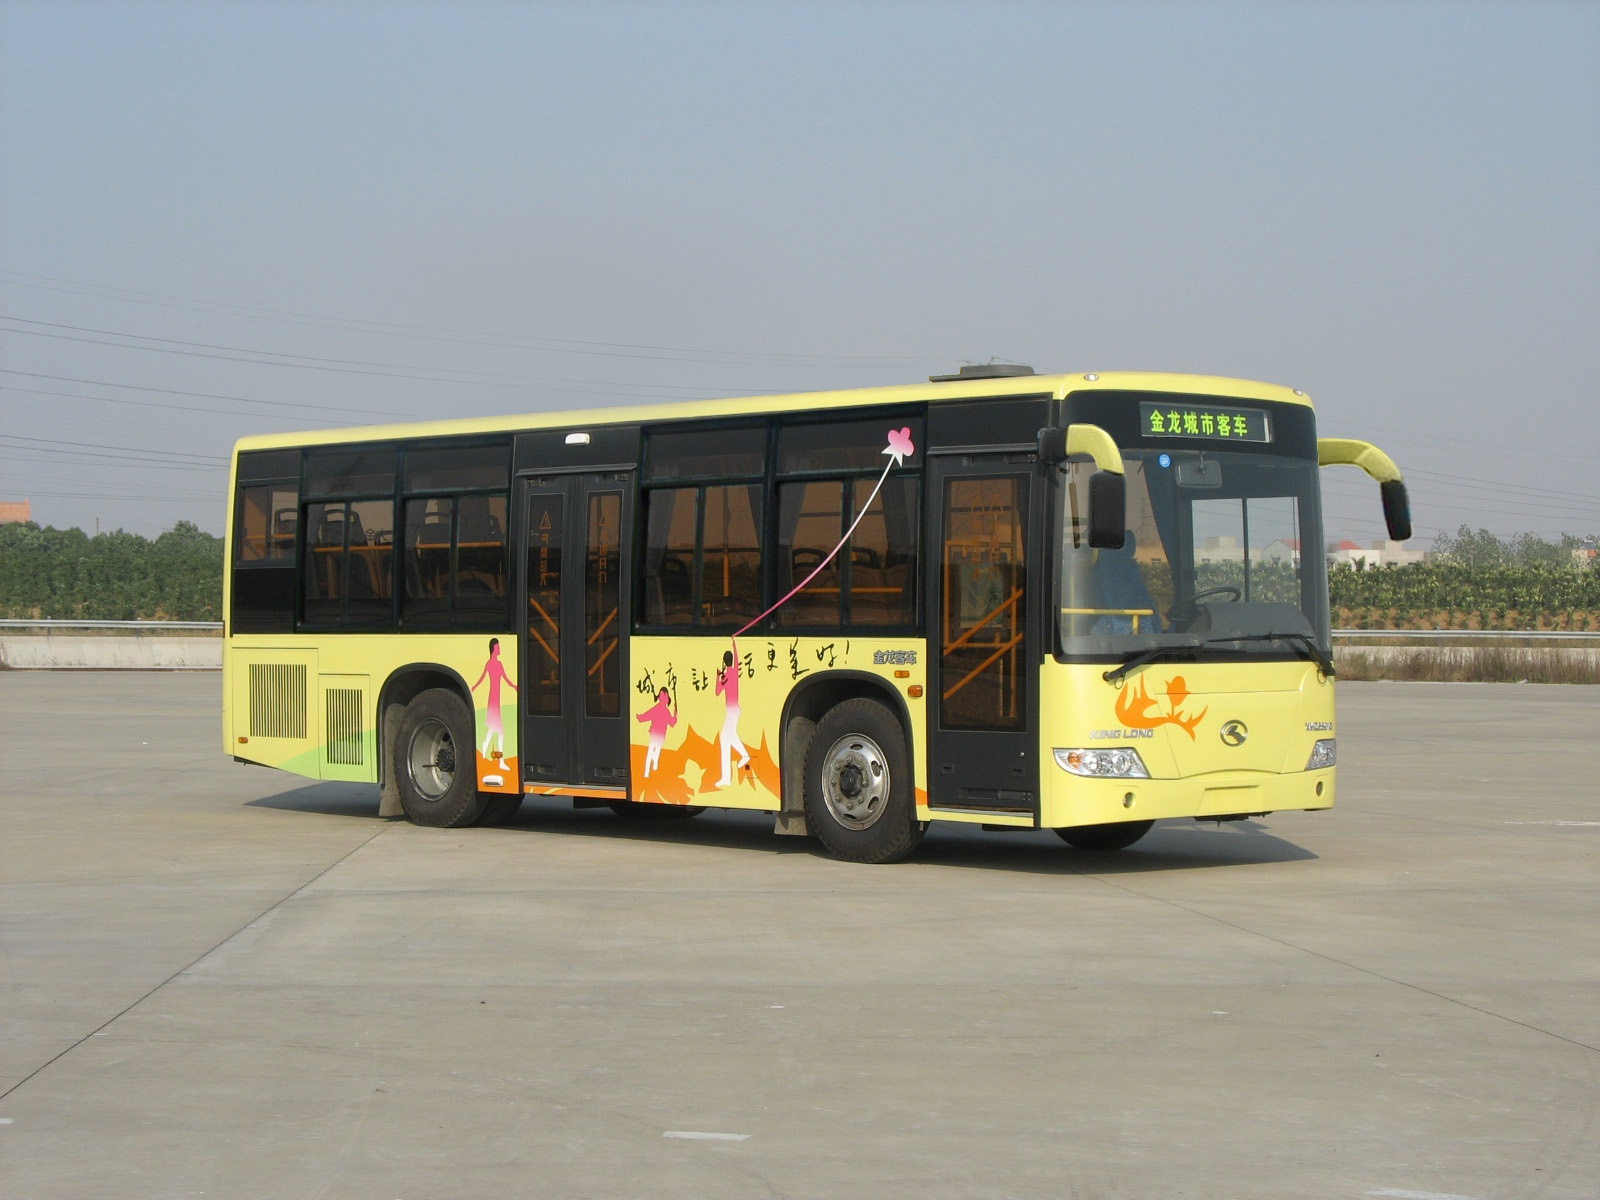bus: (191, 344, 1421, 901)
